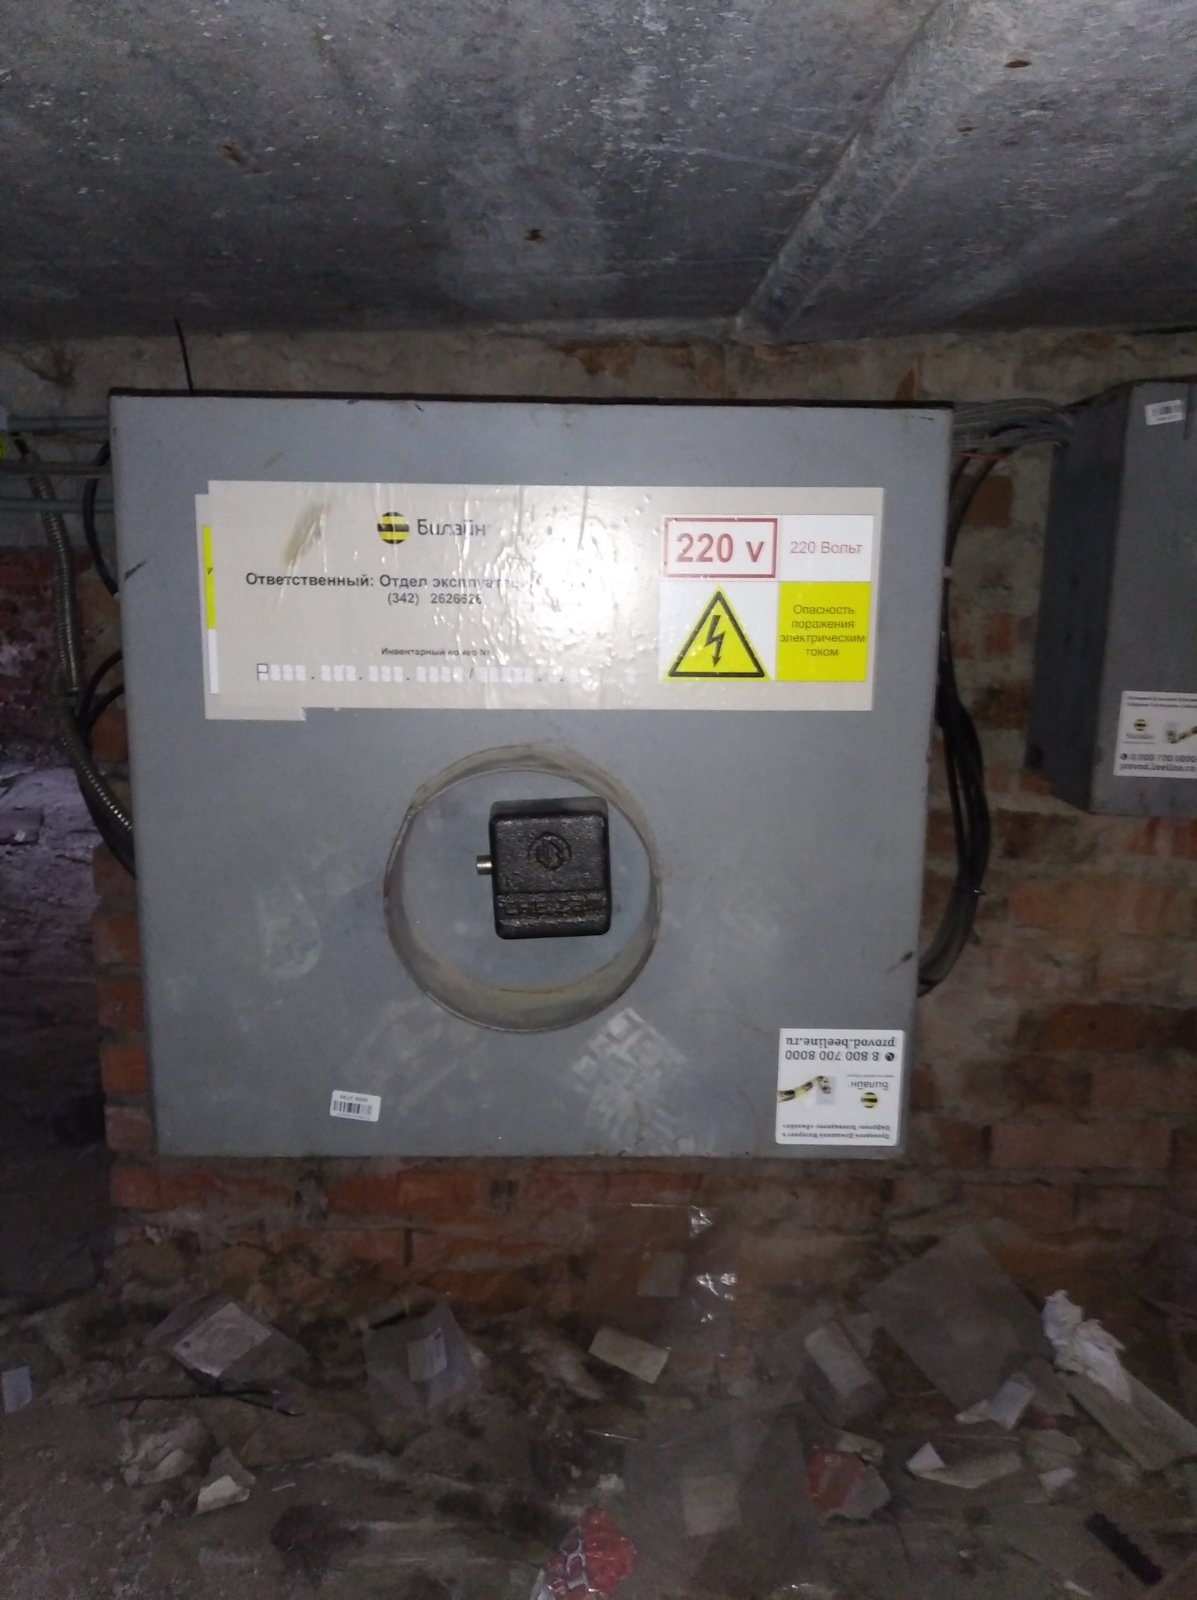shta-9: (91, 373, 959, 1176)
